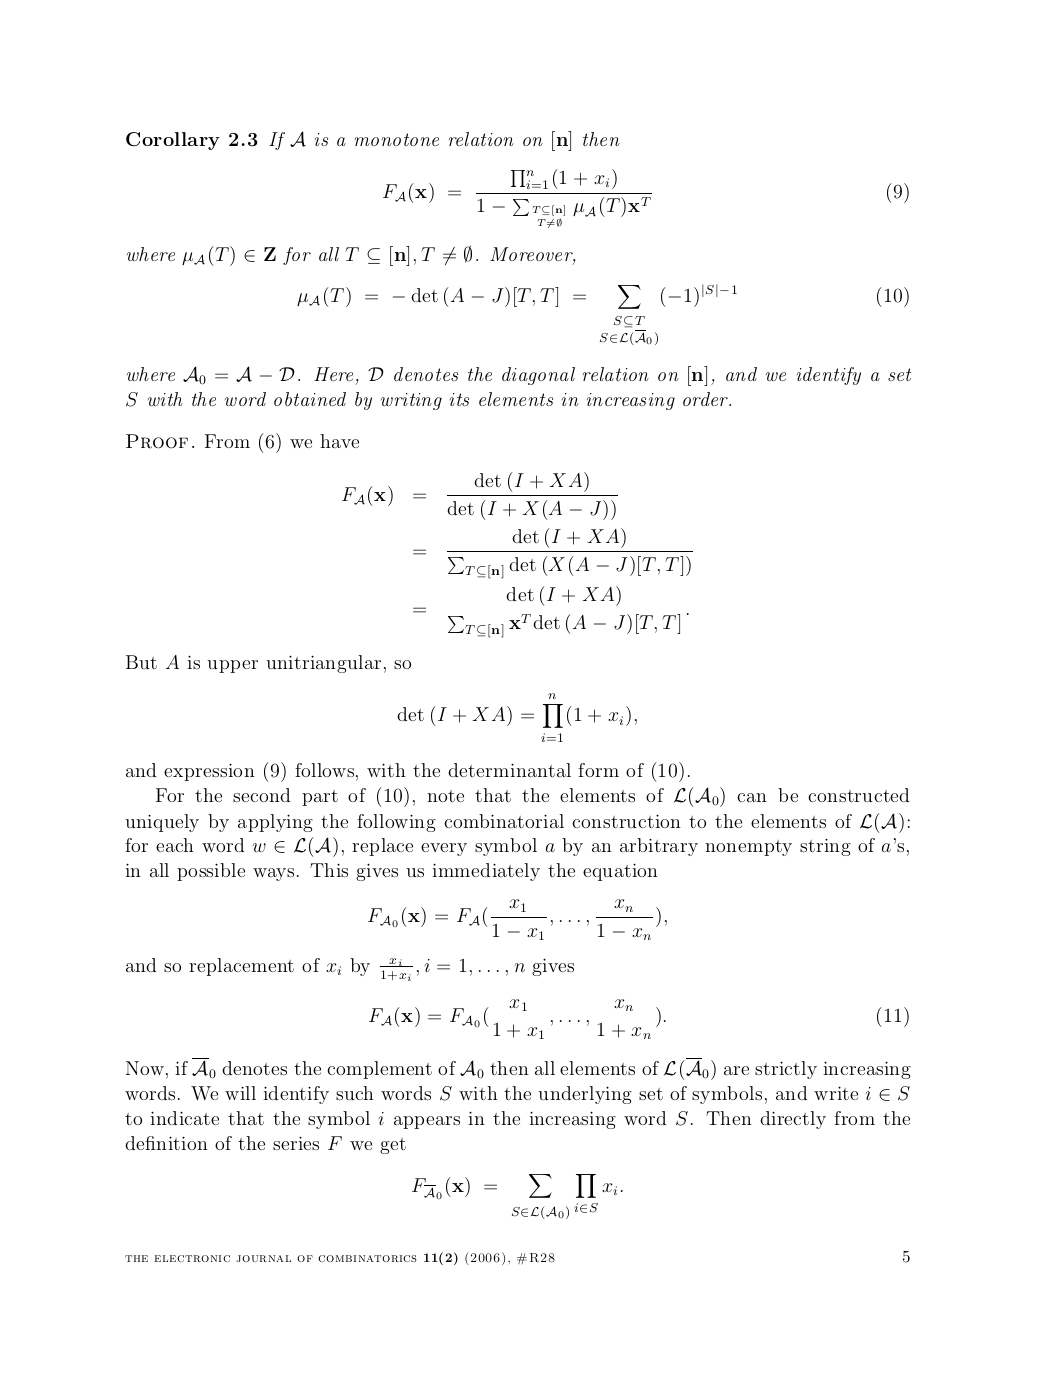formula: (296, 284, 908, 345), (383, 168, 908, 228), (369, 999, 908, 1039), (413, 586, 688, 637), (413, 528, 692, 578), (342, 471, 617, 520), (368, 898, 666, 939), (397, 693, 636, 741), (412, 1174, 622, 1219)
